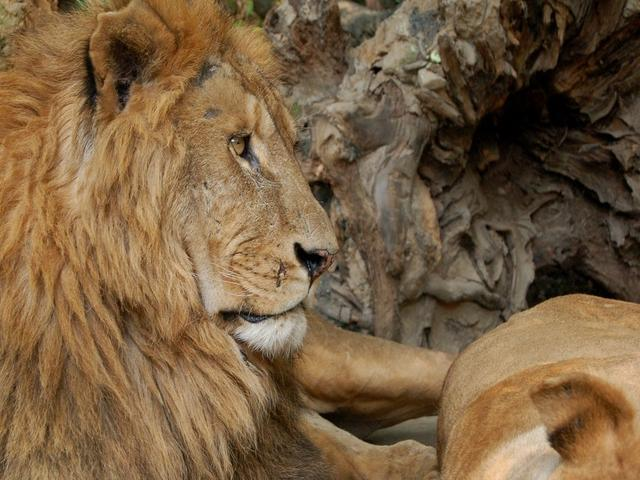lion: (13, 7, 425, 466)
